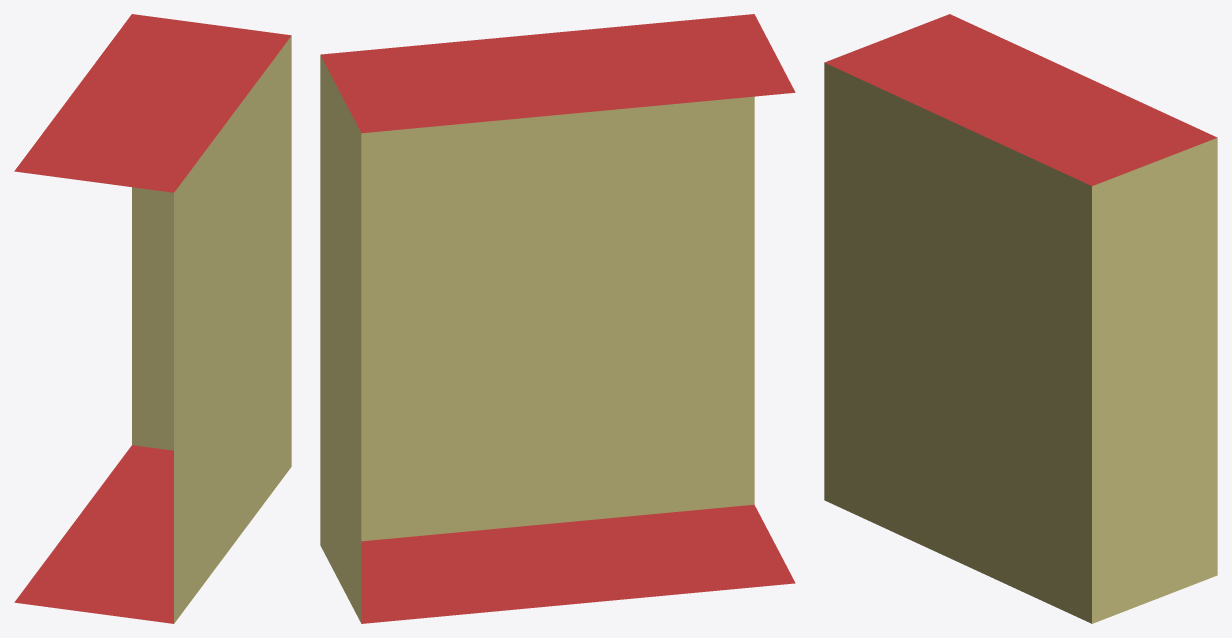
3 views of the same model, side by side, from view 1: azimuth 30°, elevation 25°; view 2: azimuth 150°, elevation 25°; view 3: azimuth 270°, elevation 25° (orthographic). The views are drawn at different scales.
Parts seen in each view (by area): view 1: group_4, group_3, group_5; view 2: group_4, group_3, group_5; view 3: group_4, group_3.
Part boxes in pixels (x1,y1,x2,y2): group_4: (132, 36, 291, 623); group_3: (14, 14, 291, 192); group_5: (14, 445, 173, 623); group_4: (320, 55, 754, 622); group_3: (320, 14, 795, 133); group_5: (361, 504, 795, 623); group_4: (824, 62, 1217, 623); group_3: (824, 14, 1217, 185).
Bounding box in the file's own units: 7.51 × 7.25 × 8.9.
